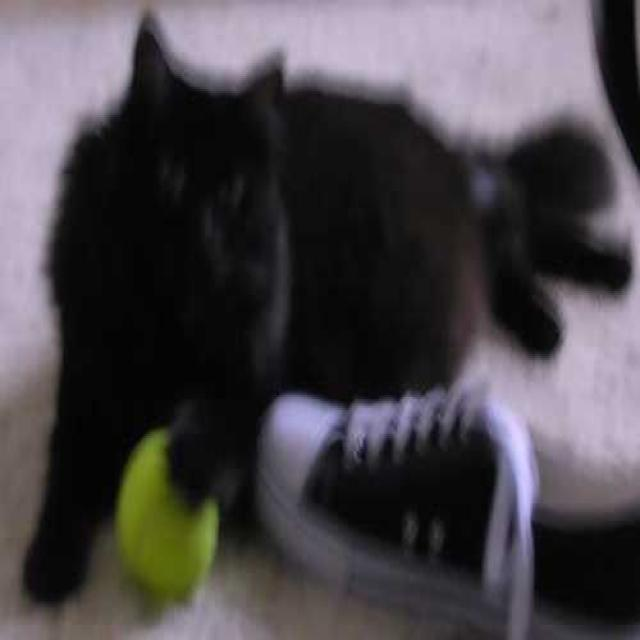Tennis_Ball: (120, 426, 218, 600)
